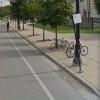Bicycle: (52, 37, 89, 58)
